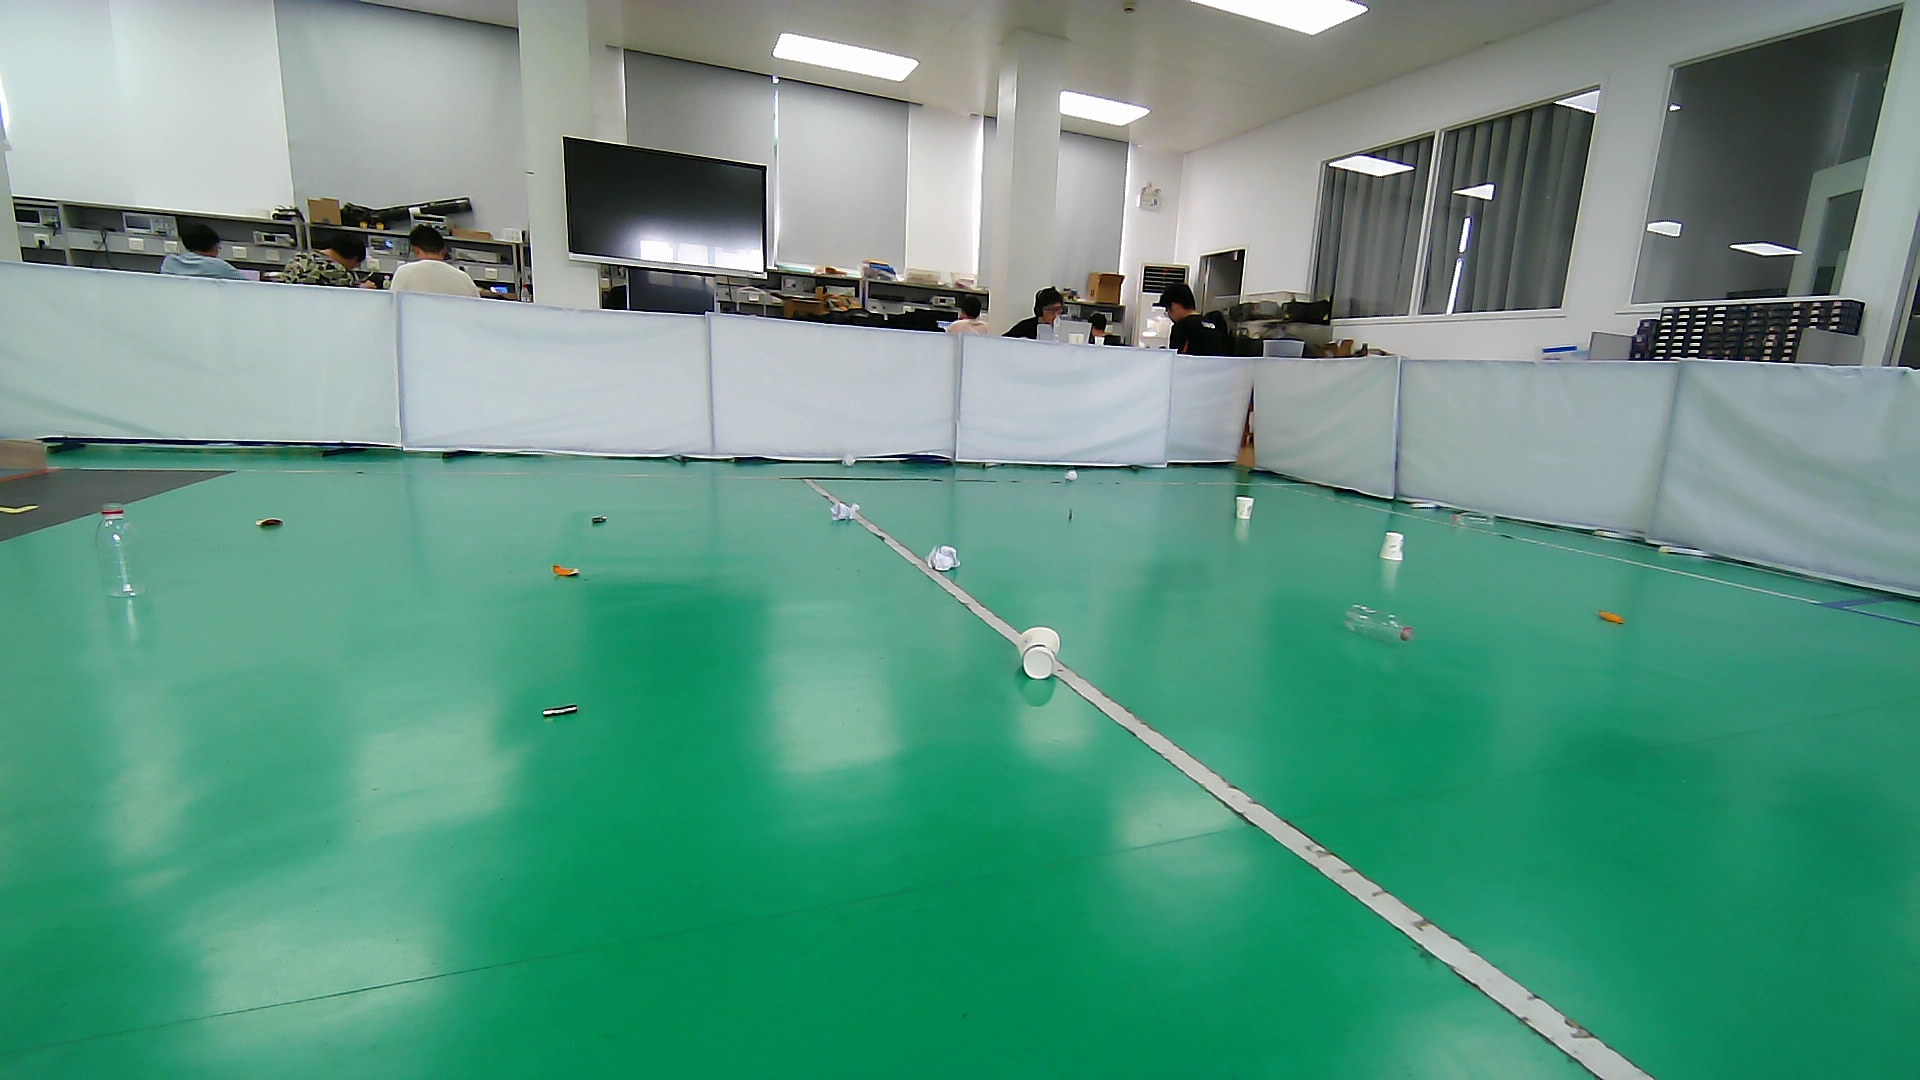battery: (535, 694, 585, 731), (582, 509, 617, 531), (1060, 498, 1083, 533)
bottle: (90, 502, 152, 605), (1336, 603, 1418, 650), (1447, 506, 1499, 531)
orangepeel: (545, 556, 587, 585), (1592, 603, 1633, 632), (249, 509, 291, 535)
papercup: (1015, 624, 1063, 683), (1375, 526, 1408, 564), (1232, 493, 1258, 522)
spitball: (924, 545, 961, 574), (827, 500, 862, 525), (1062, 468, 1081, 483)
